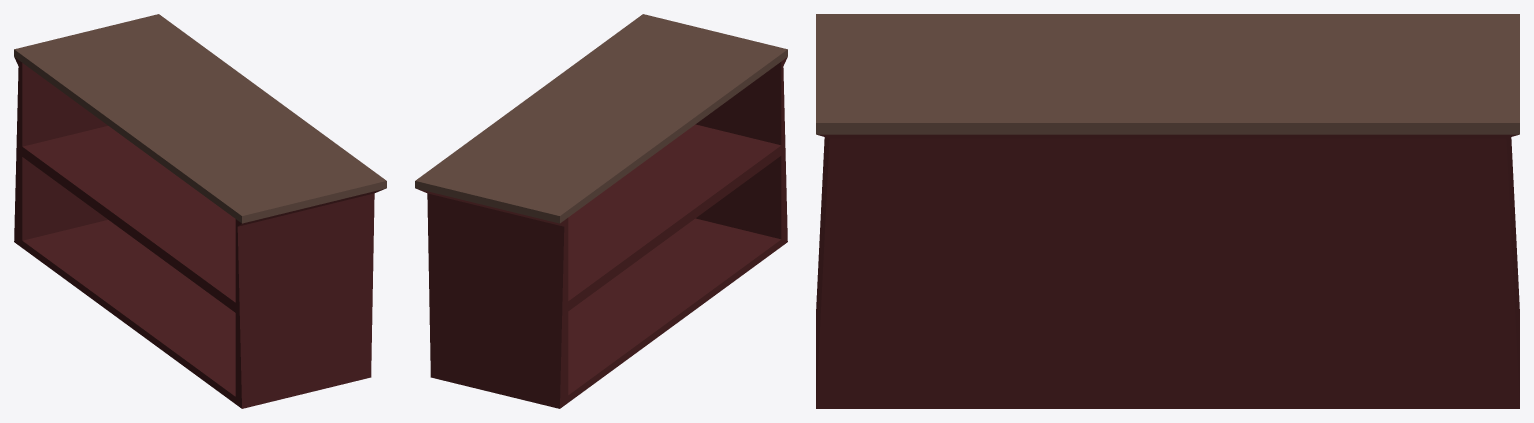
Rendered from counter.fbx.
3 views of the same model, side by side, from view 1: azimuth 30°, elevation 25°; view 2: azimuth 150°, elevation 25°; view 3: azimuth 270°, elevation 25° (orthographic). The views are drawn at different scales.
Visible parts, largest first — view 1: counter; view 2: counter; view 3: counter.
Part boxes in pixels (x1,y1,x2,y2): counter: (14, 14, 386, 408); counter: (415, 14, 787, 408); counter: (816, 14, 1519, 408).
Bounding box in the file's own units: 110 × 140 × 300.
